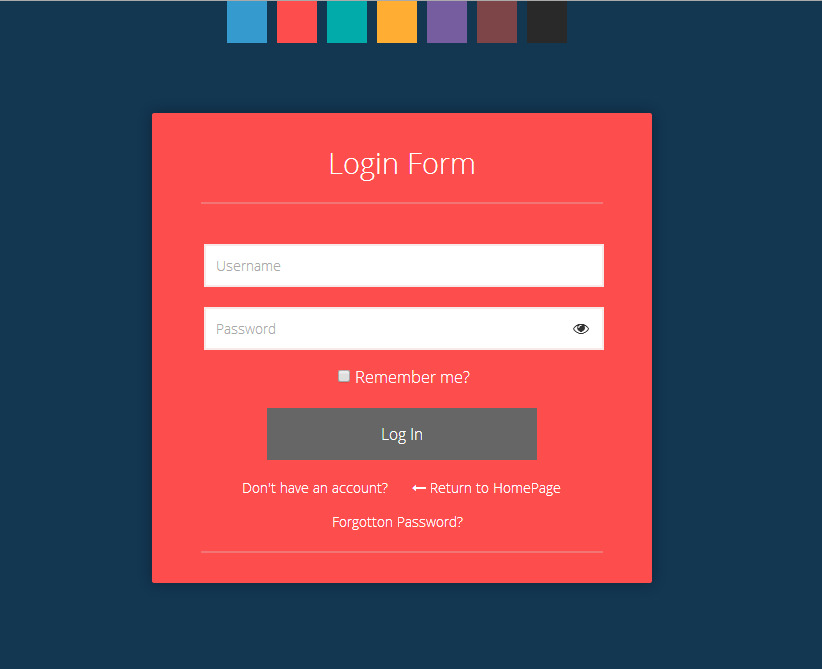_form_: (193, 117, 609, 534)
button: (266, 407, 539, 461)
checkbox: (336, 368, 353, 383)
checkbox_with_label: (334, 366, 471, 386)
field: (202, 243, 606, 289), (203, 306, 607, 352)
